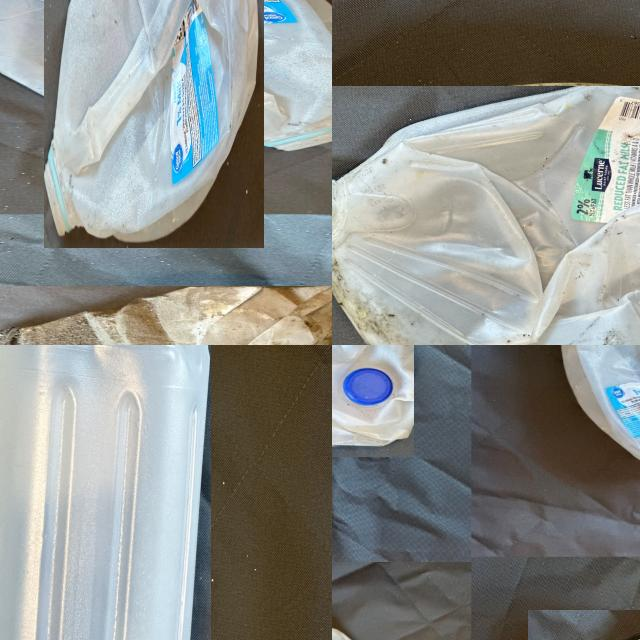milk-jug: (332, 85, 640, 345), (0, 0, 311, 200), (0, 345, 210, 640), (0, 286, 332, 345), (553, 345, 640, 470)
